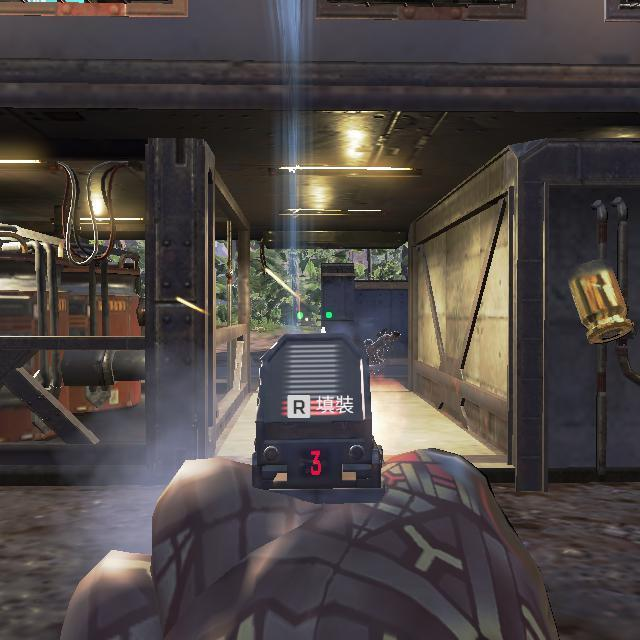avatar: (363, 325, 405, 378)
